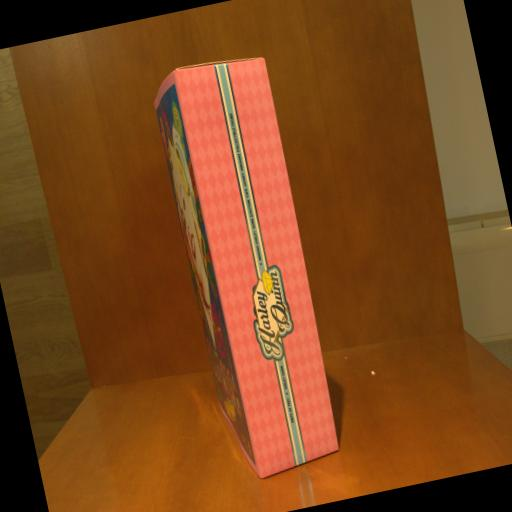Harley: (148, 49, 350, 485)
